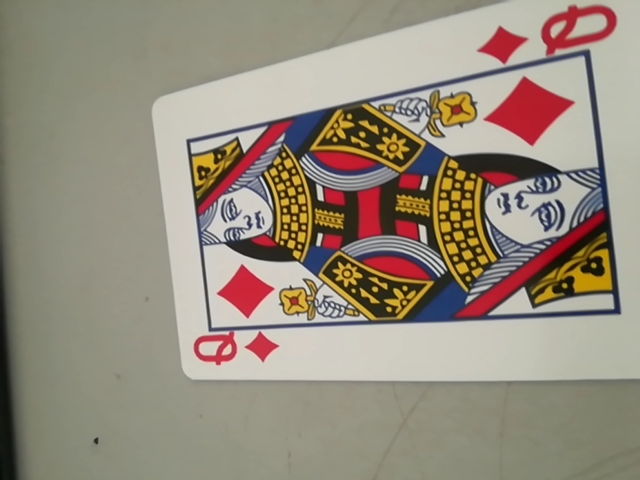fk q: (476, 1, 622, 71), (190, 324, 280, 378)
